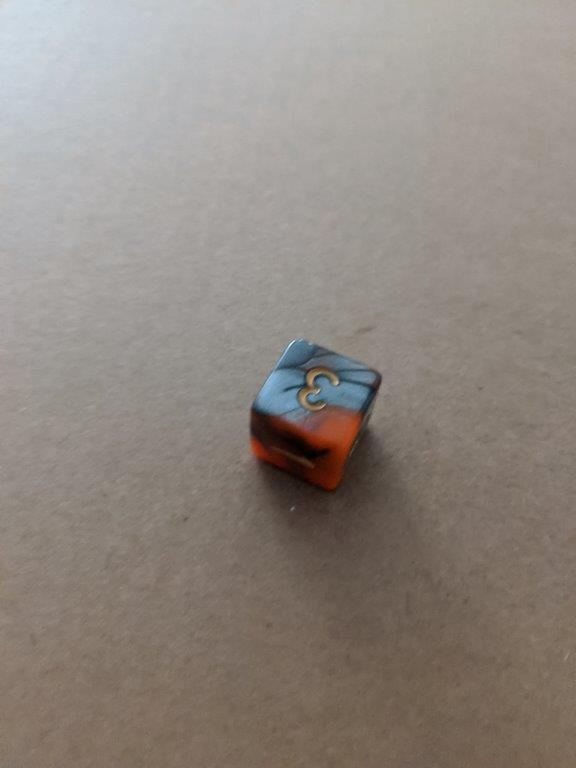d6-3: (247, 336, 384, 494)
